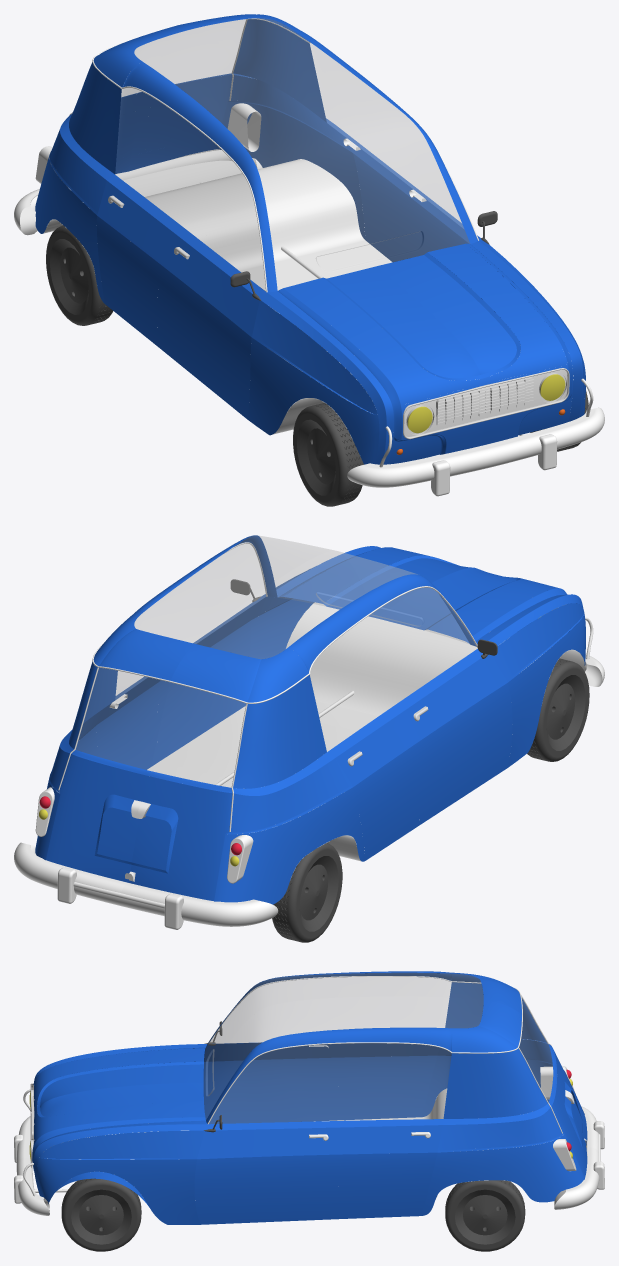
The picture shows the model from 3 angles, top to bottom: view 1: azimuth 30°, elevation 25°; view 2: azimuth 150°, elevation 25°; view 3: azimuth 270°, elevation 25°; orthographic projection. The views are drawn at different scales.
Visible parts, largest first — view 1: 4l2, Wheels and axel; view 2: 4l2, Wheels and axel; view 3: 4l2, Wheels and axel.
Part boxes in pixels (x1,y1,x2,y2): 4l2: (14,14,604,496); Wheels and axel: (46,225,588,506); 4l2: (14,535,604,929); Wheels and axel: (272,658,589,942); 4l2: (14,971,604,1224); Wheels and axel: (61,1178,525,1251).
Size of the model in its own units: 1.5 by 1.45 by 3.7.
